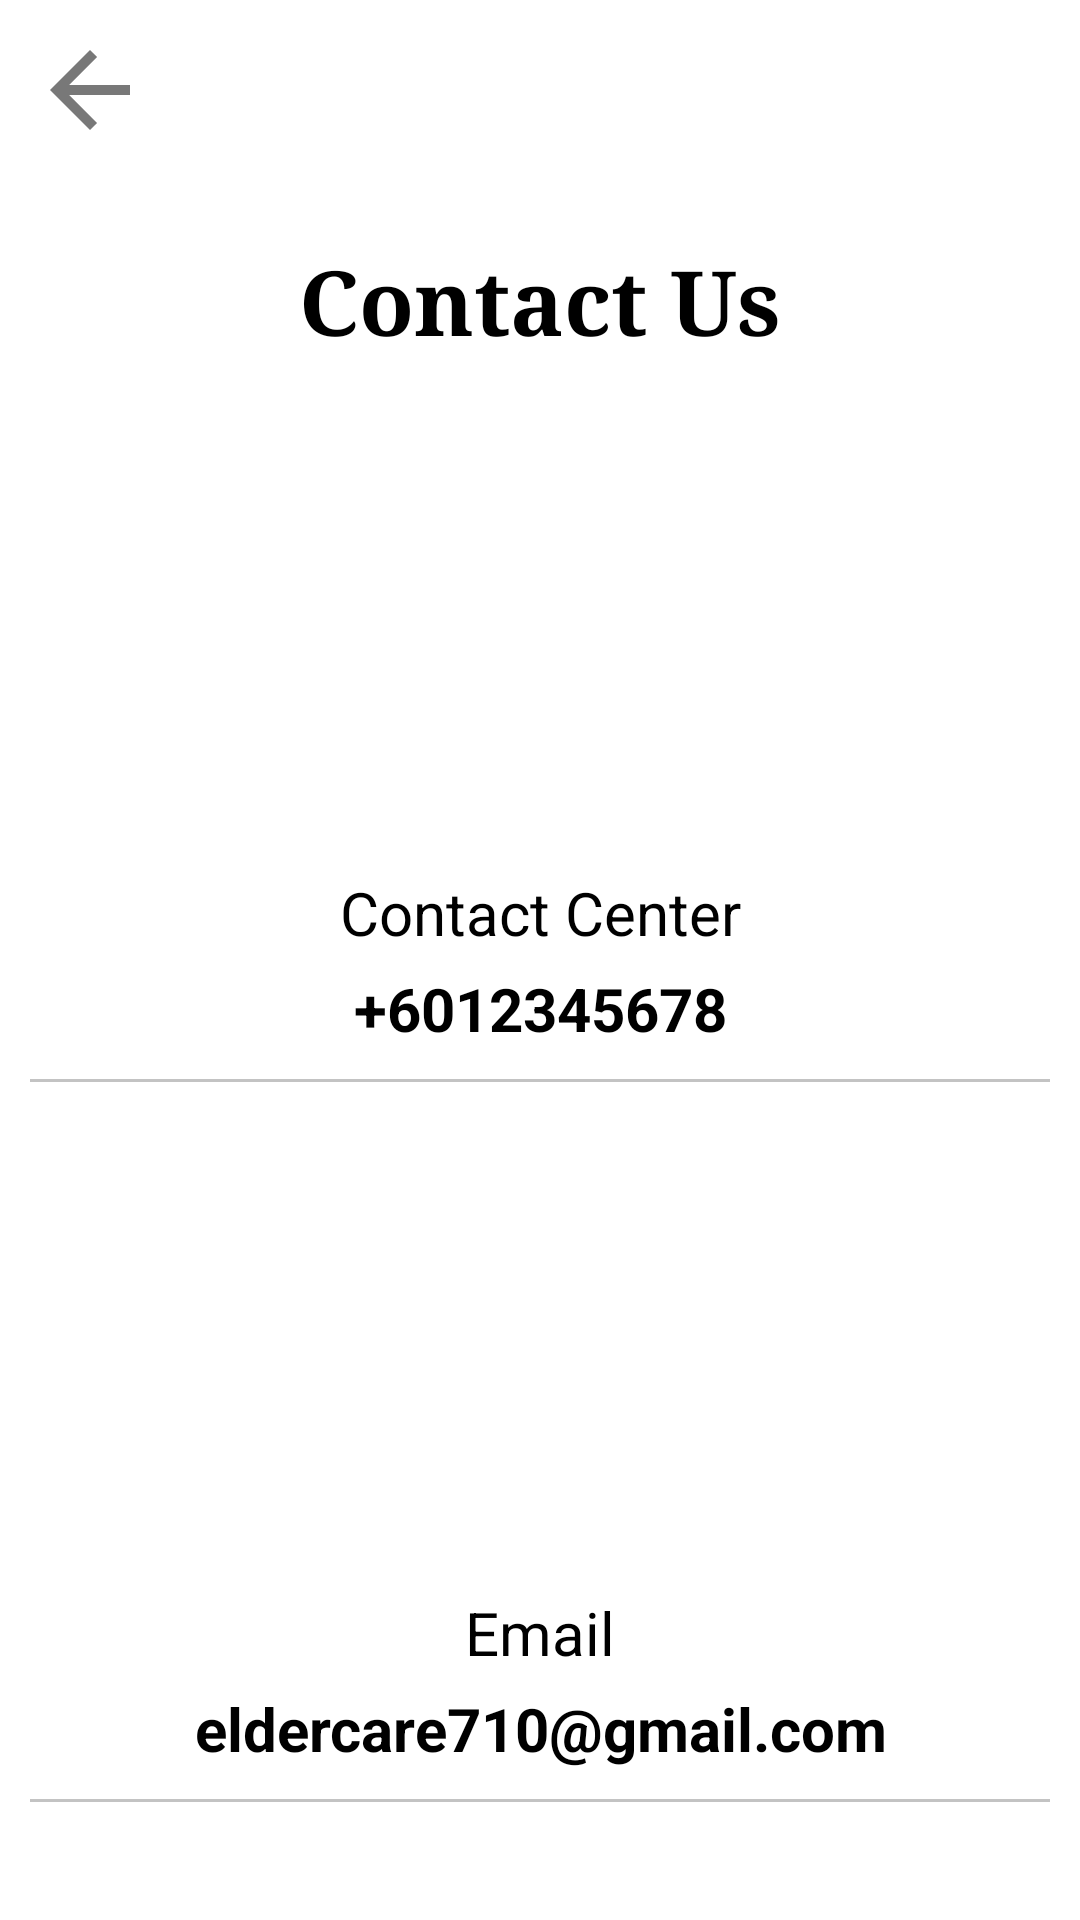

Where icons sit on this 1080px x 1920px app screen, as {"x1": x1, "y1": y1, "x2": x2, "y2": y2}:
arrow back: {"x1": 50, "y1": 50, "x2": 130, "y2": 130}
